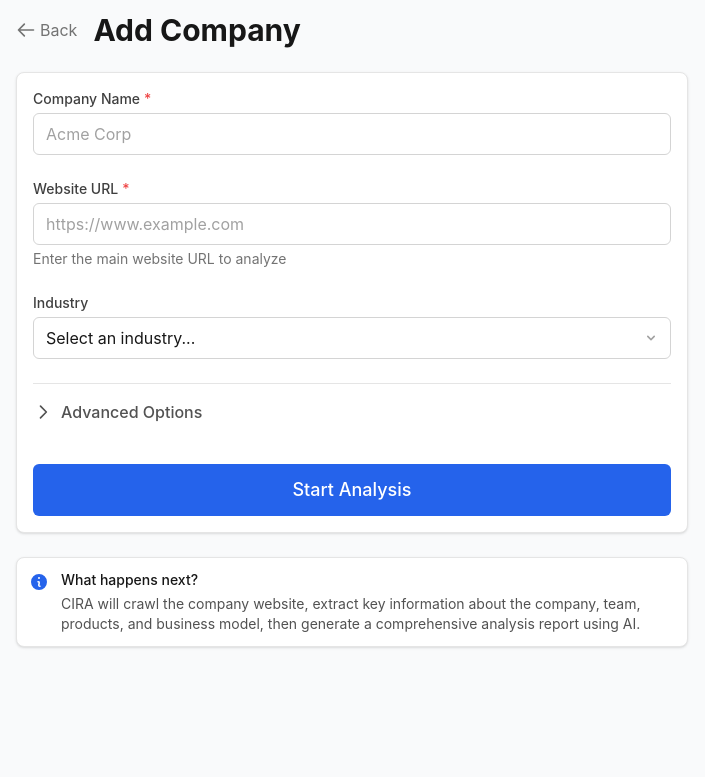
AddCompany Advanced Options › shows advanced options when toggled
Note: Click "Advanced Options" toggle
What coordinates should you click on to do the following:
click the button "Advanced Options"
I would click on:
 (118, 412)
Its box is [33, 400, 202, 424].
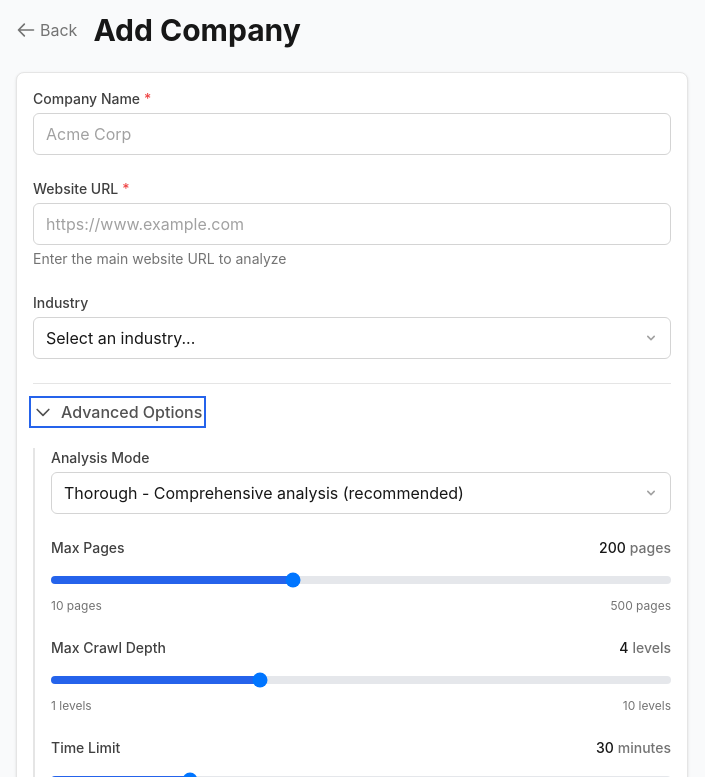
Expected: the slider labelled "Max Pages" is shown, [51, 576, 671, 584]
Expected: the dropdown labelled "Analysis Mode" is shown, [51, 472, 671, 514]
